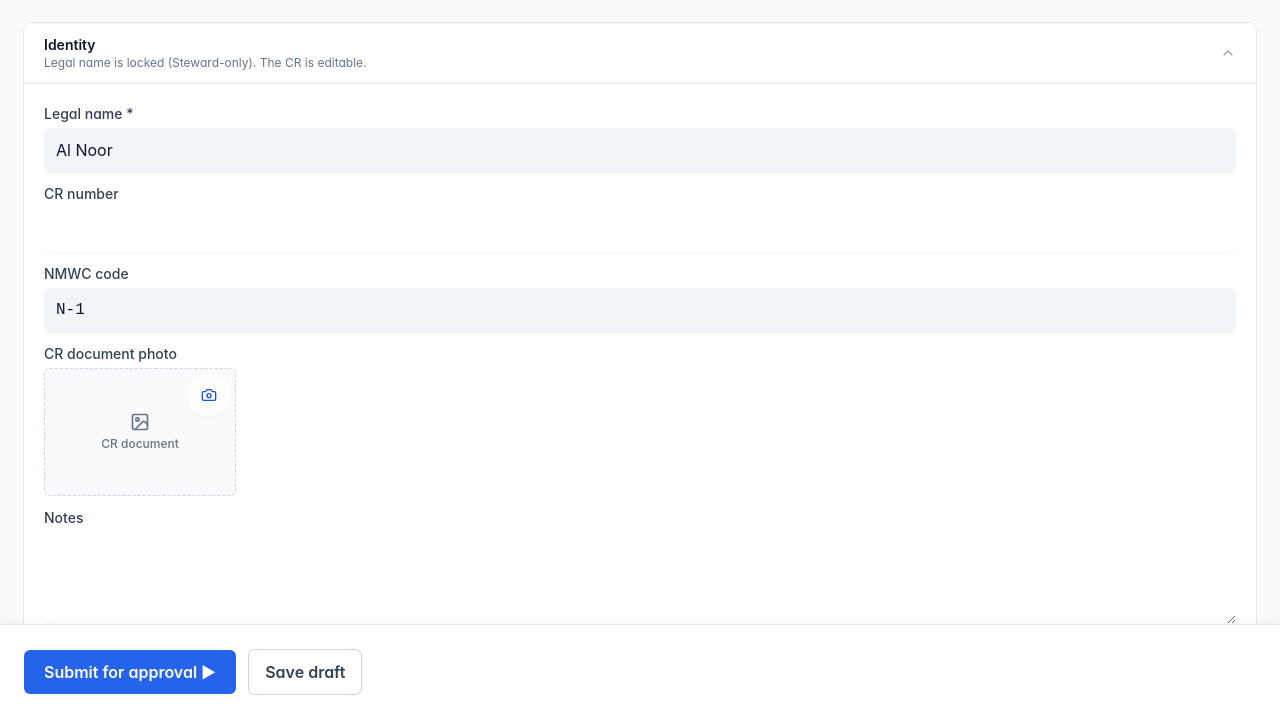
the customer update form › a field error is said beside the button — the red notice of the last try does not just vanish
Click the button "Submit for approval ▶".
click(130, 672)  # box left=24, top=650, right=236, bottom=694
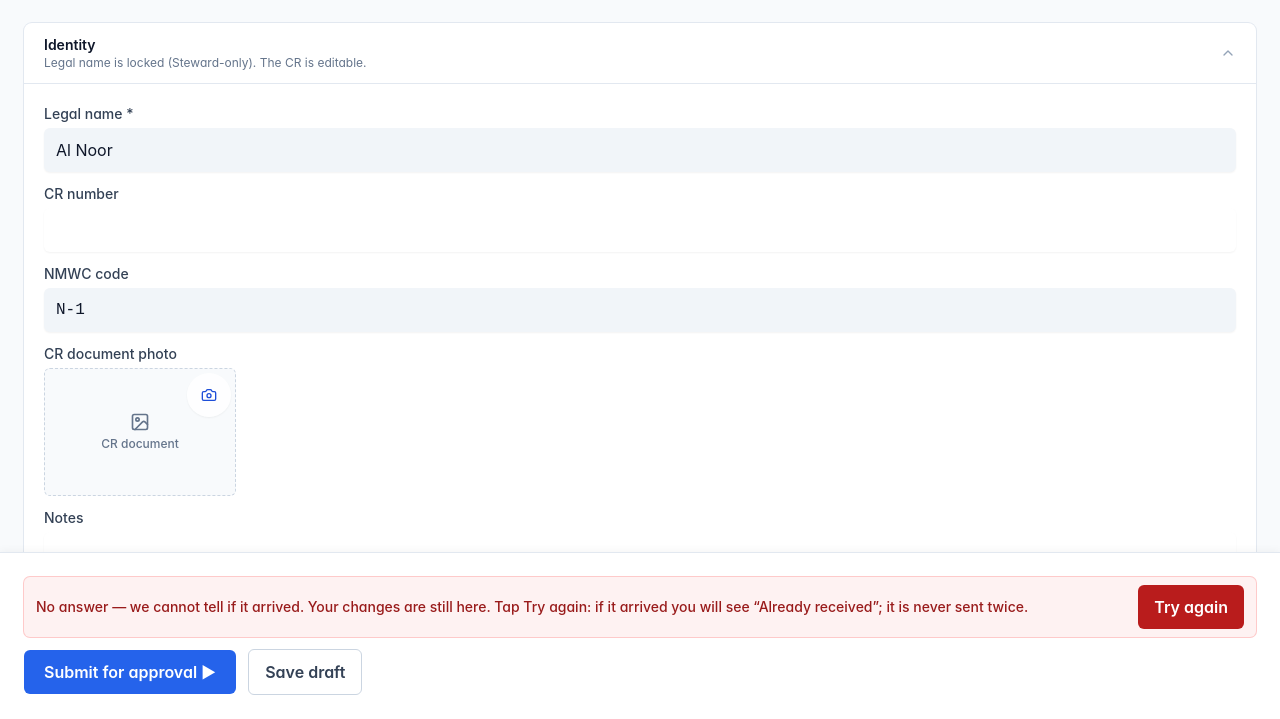
Click the button "Try again".
click(1191, 607)  # box left=1138, top=585, right=1244, bottom=629
(page scrolled)
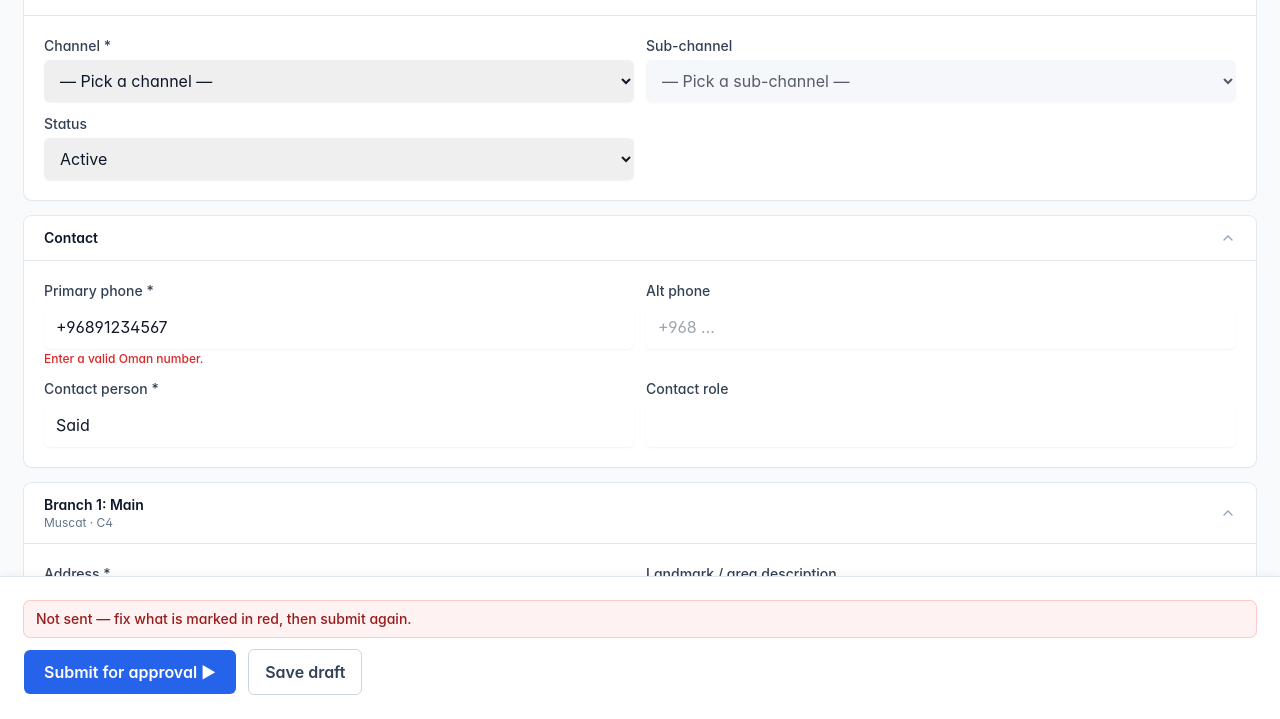
Expected: the message reads "Not sent — fix what is marked in red, then submit again.", left=36, top=610, right=412, bottom=627
Expected: the text "Try again" is gone
Expected: the text "Enter a valid Oman number." is shown, left=44, top=351, right=204, bottom=366
